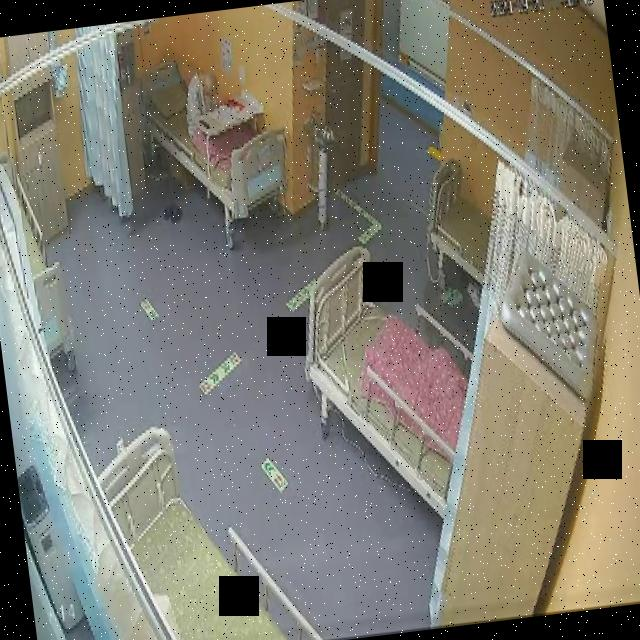bed: (294, 236, 482, 528), (90, 413, 322, 640), (132, 46, 296, 230), (421, 154, 498, 292)
patient: (179, 65, 226, 138)
sit: (179, 61, 223, 132)
